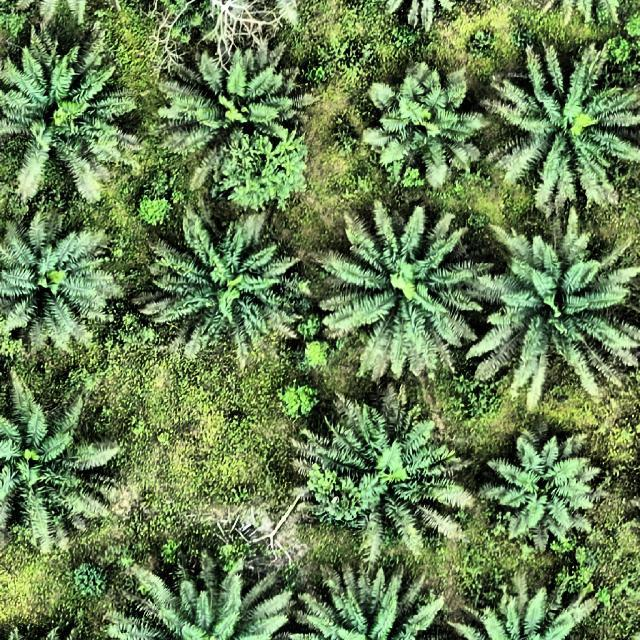Kelapa_Sawit: (330, 203, 488, 386), (142, 208, 314, 364), (481, 226, 640, 394), (318, 396, 471, 556), (0, 27, 131, 200), (495, 53, 639, 200), (0, 208, 130, 368), (0, 375, 95, 565), (124, 553, 292, 640), (367, 68, 483, 188), (174, 58, 296, 161), (284, 564, 440, 640), (492, 428, 596, 541), (448, 592, 588, 640)
